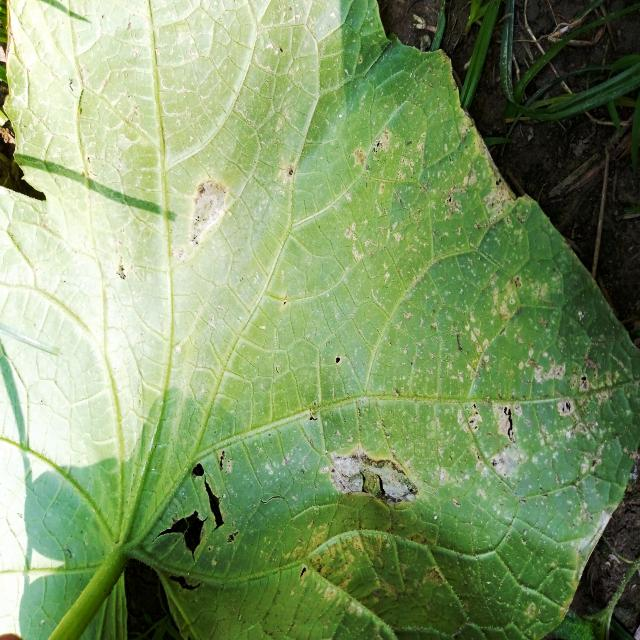Anthracnose: (148, 459, 236, 564)
